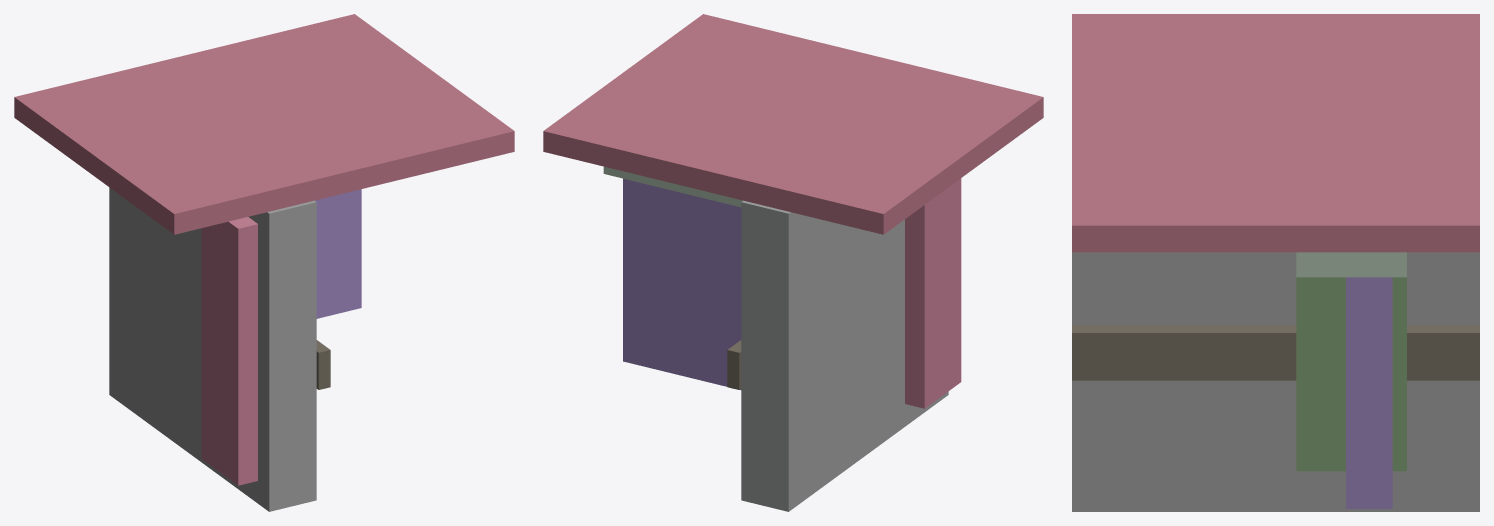
3 renders of one model, left to right at view 1: azimuth 30°, elevation 25°; view 2: azimuth 150°, elevation 25°; view 3: azimuth 270°, elevation 25°, orthographic. The views are drawn at different scales.
Parts seen in each view (by area): view 1: world; view 2: world; view 3: world.
Boxes of the visible parts, box(x1,y1,x2,y2) form: world: box(14, 14, 514, 511); world: box(543, 14, 1043, 511); world: box(1072, 14, 1479, 511).
Size of the model in its own units: 8.6 by 7.75 by 7.
